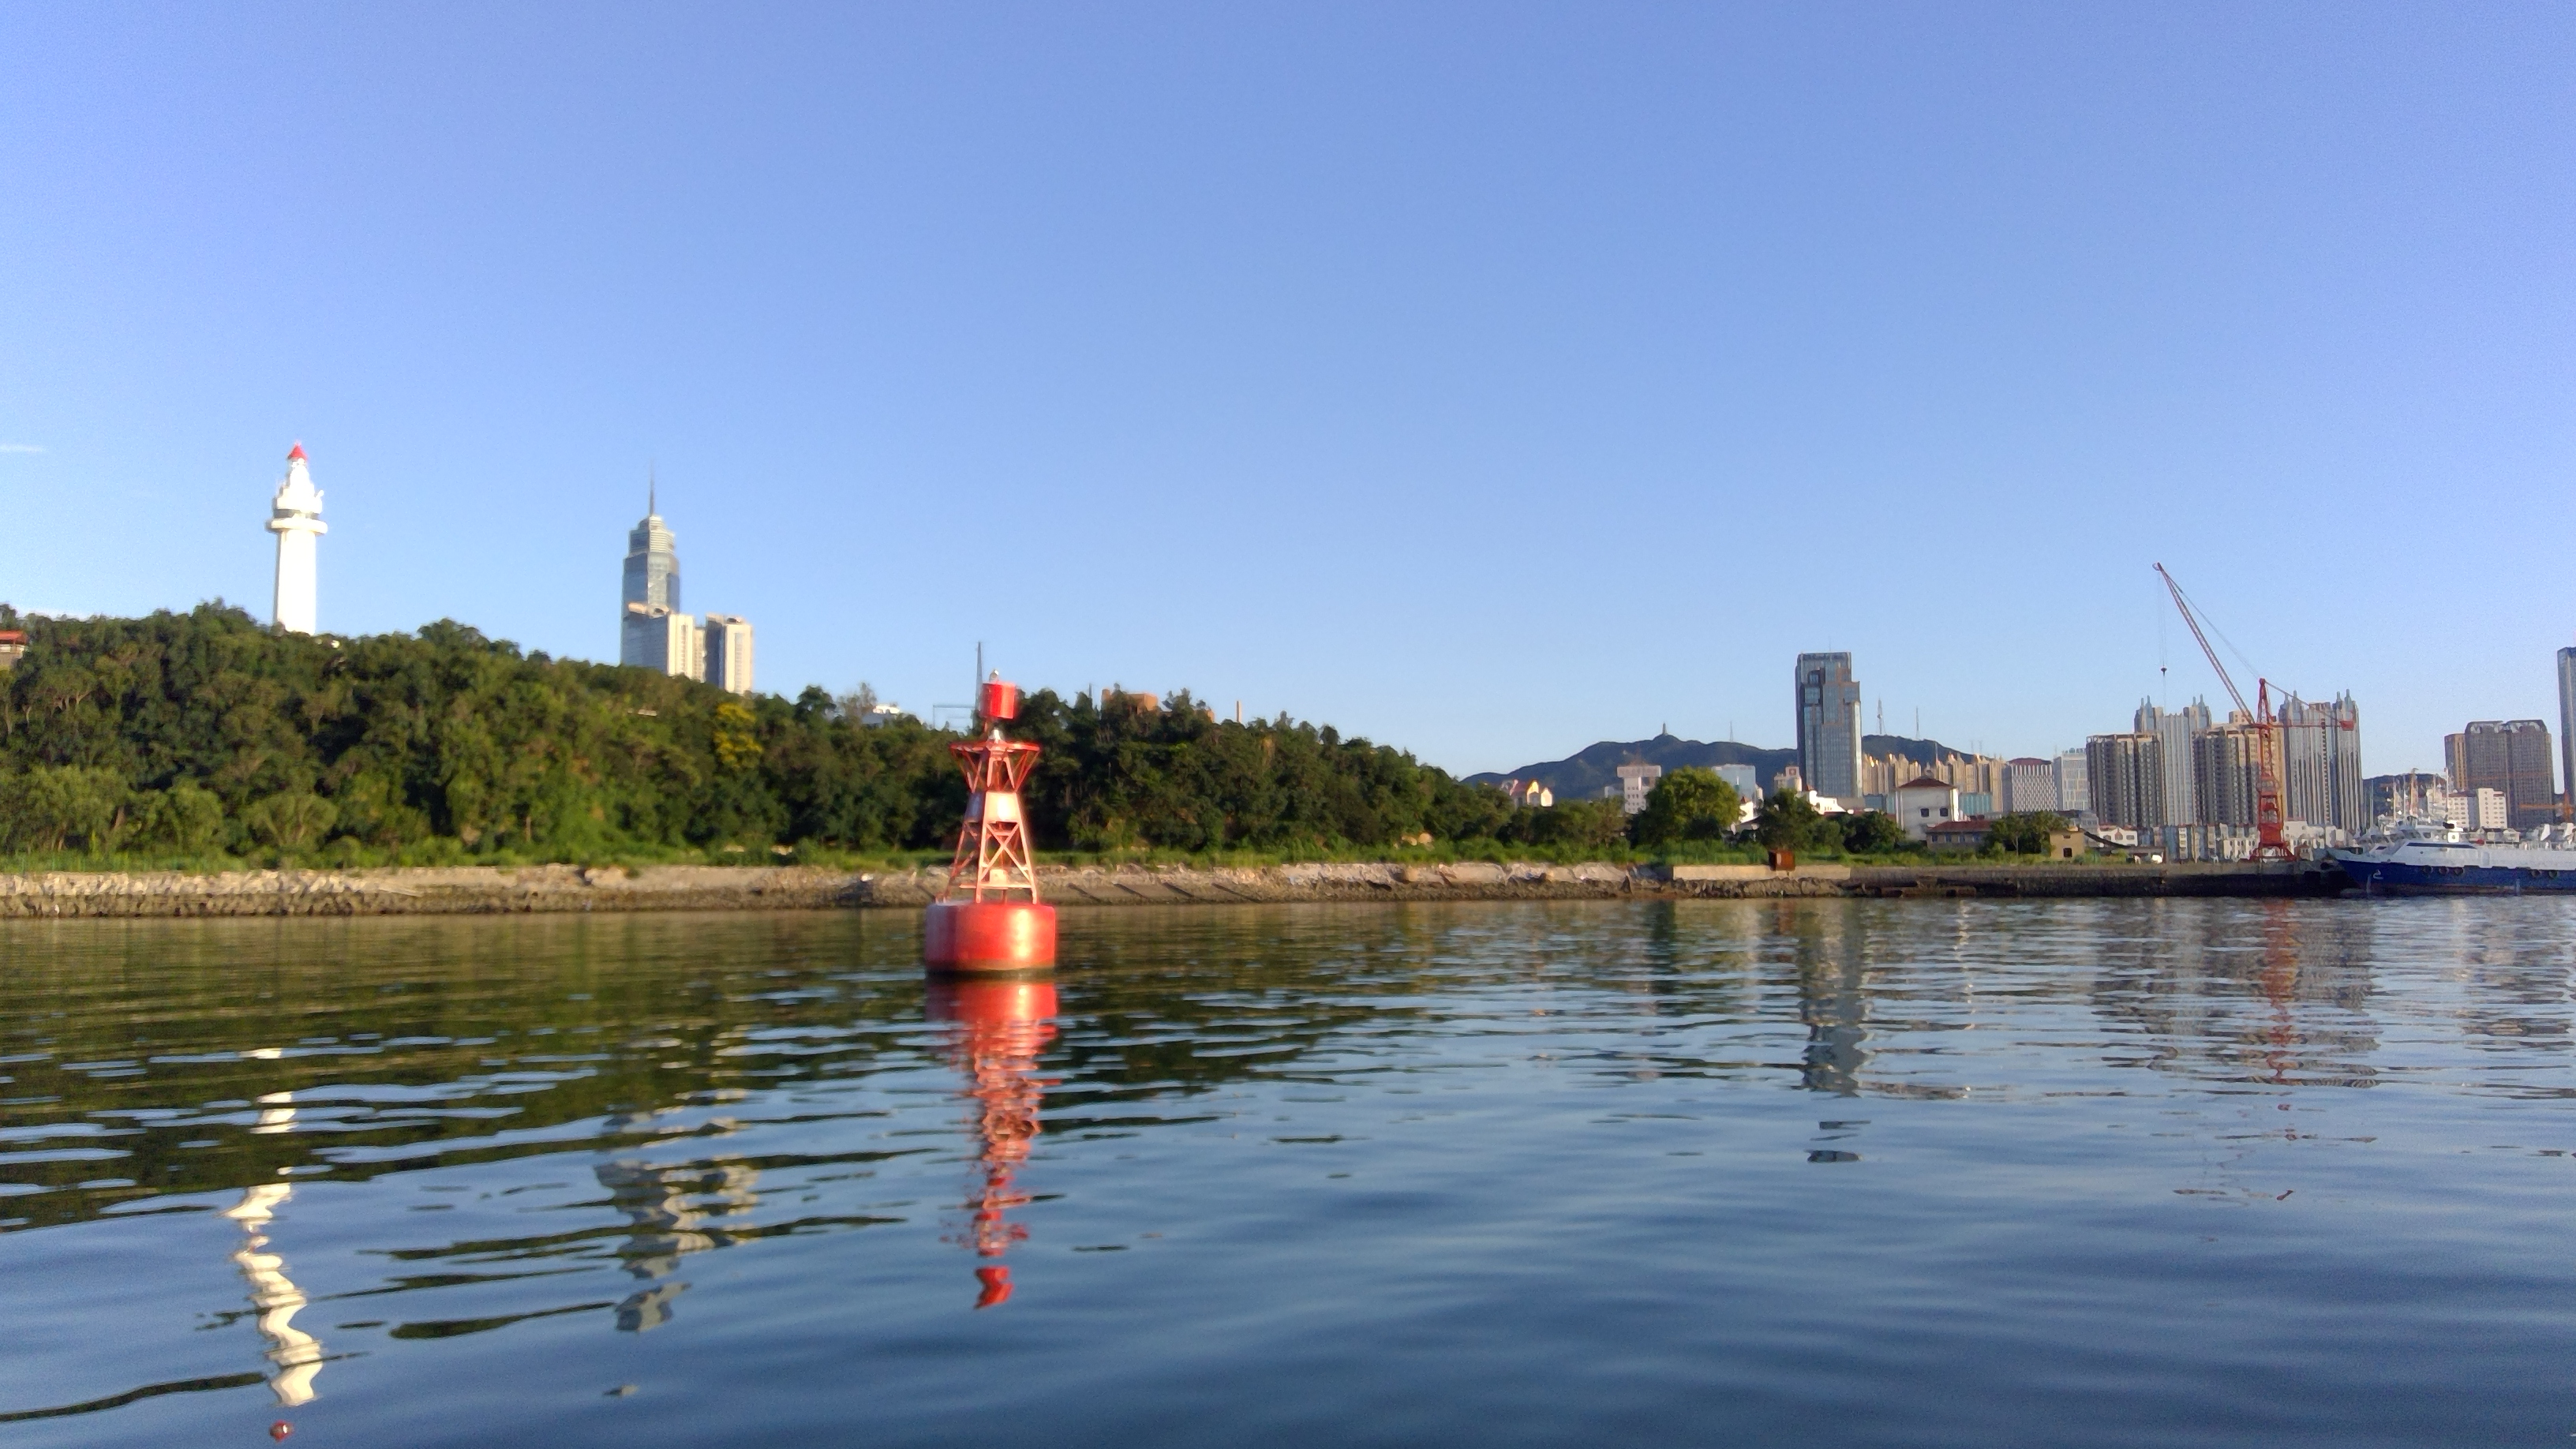buoy: (909, 671, 1085, 987)
ship: (2318, 778, 2576, 899)
